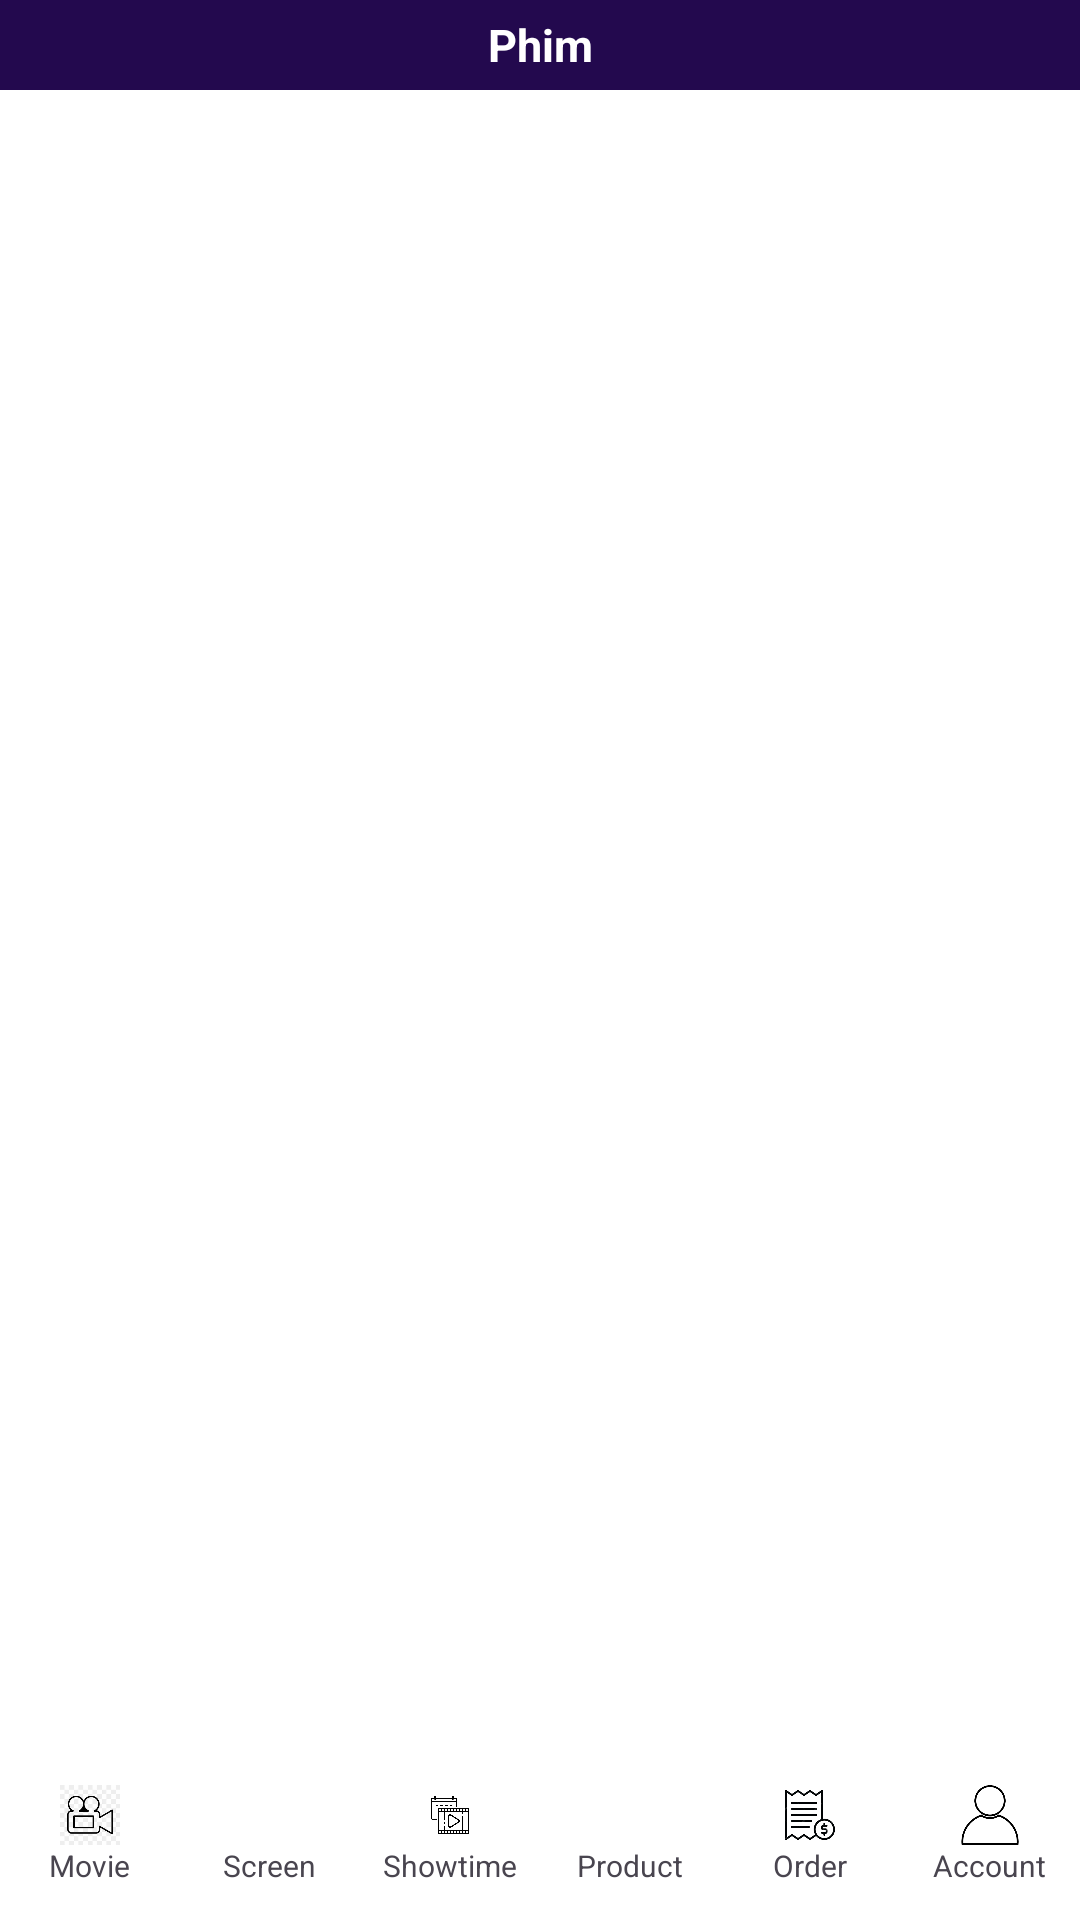

Icon bounding boxes for this 1080w x 1920h phone screenshot, format {"x1": x1, "y1": y1, "x2": x2, "y2": y2}:
profile: {"x1": 961, "y1": 1785, "x2": 1019, "y2": 1845}
